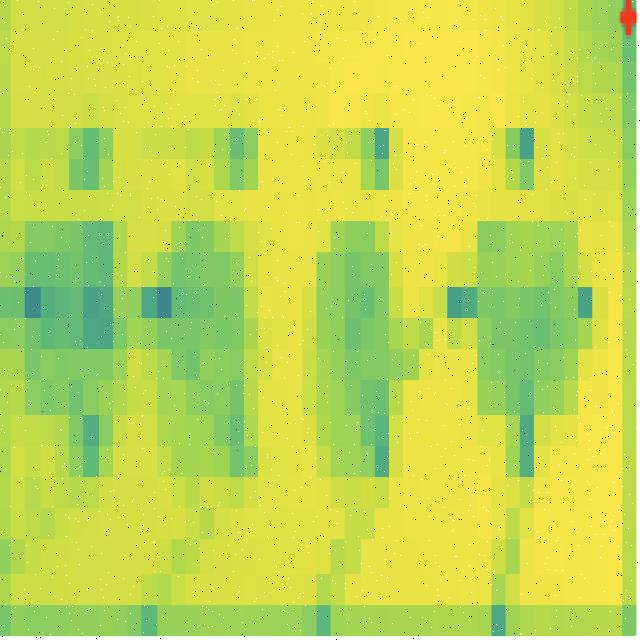Concrete: (475, 219, 579, 417)
Glass: (304, 217, 408, 493)
Metal: (25, 222, 129, 419)
Wood: (154, 222, 257, 478)
